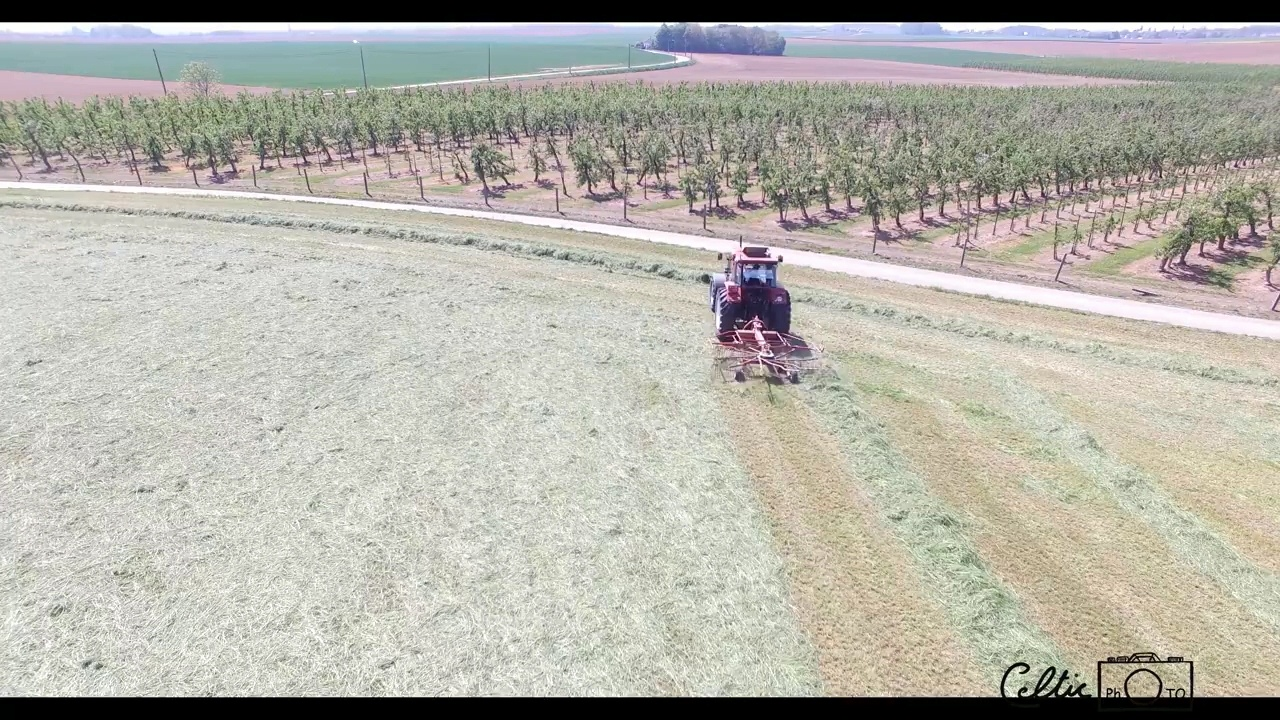traktor: (704, 230, 794, 342)
